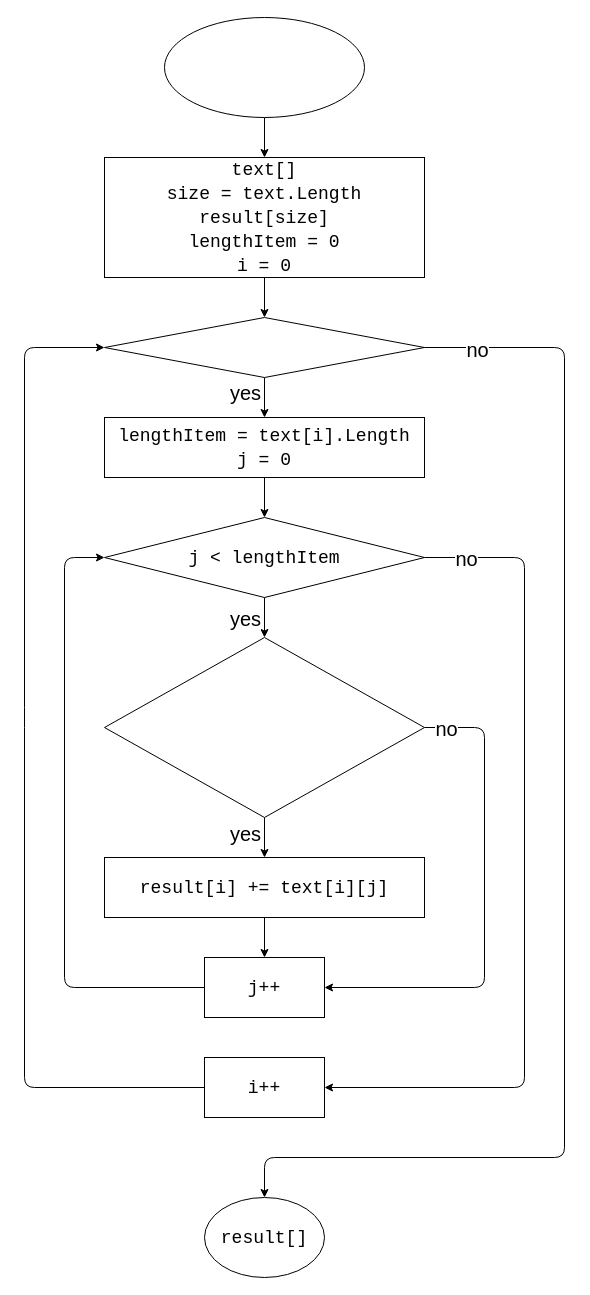
This 590x1295 diagram has some shape labels left out. The shapes that lost their labels are listed below. From the top down, each one's box as (x1, y1, x2, y2) in pixels, then its label:
(164, 16, 364, 118): Remove Numbers From Array Strings
(104, 316, 424, 378): i < size
(104, 636, 424, 818): not text [ i ][ j ] >= '0' && text [ i ][ j ] <= '9'
